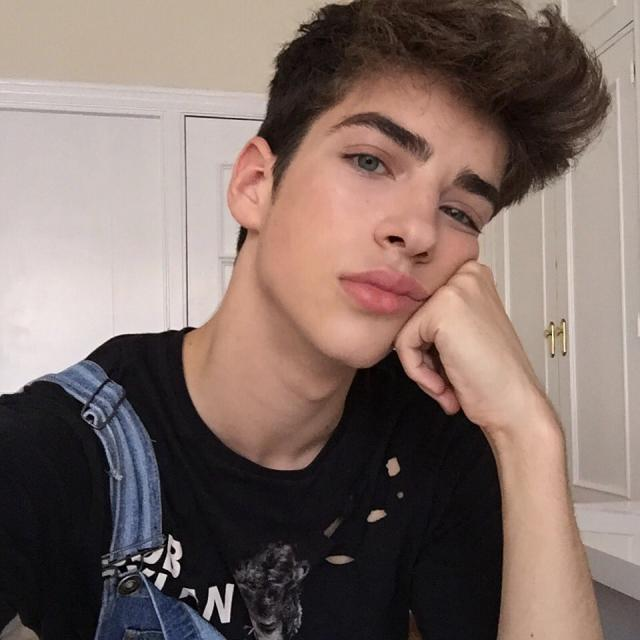earlobe: (237, 200, 265, 230)
eye: (341, 141, 401, 184), (439, 199, 484, 236)
nose: (378, 234, 437, 280)
wholeear: (227, 137, 272, 230)
